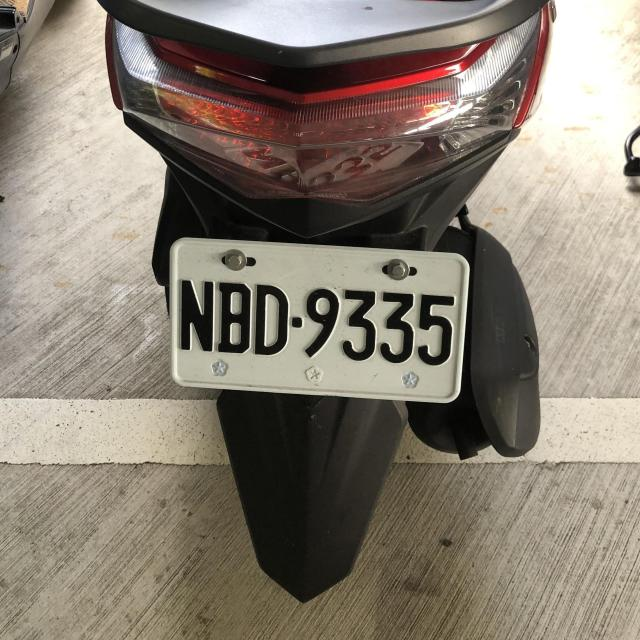W: (163, 238, 469, 402)
